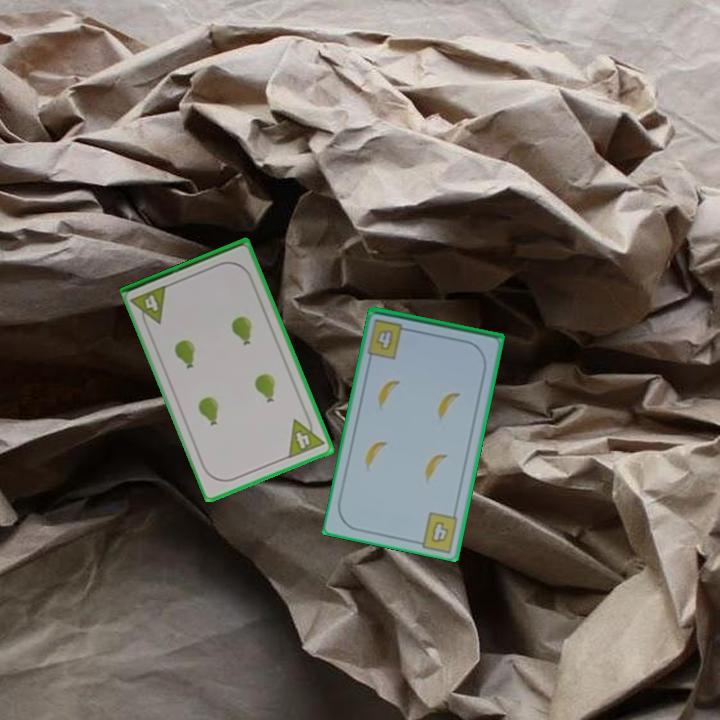4b: (366, 316, 414, 361), (428, 518, 452, 546)
4p: (128, 281, 171, 331), (285, 411, 327, 461)
